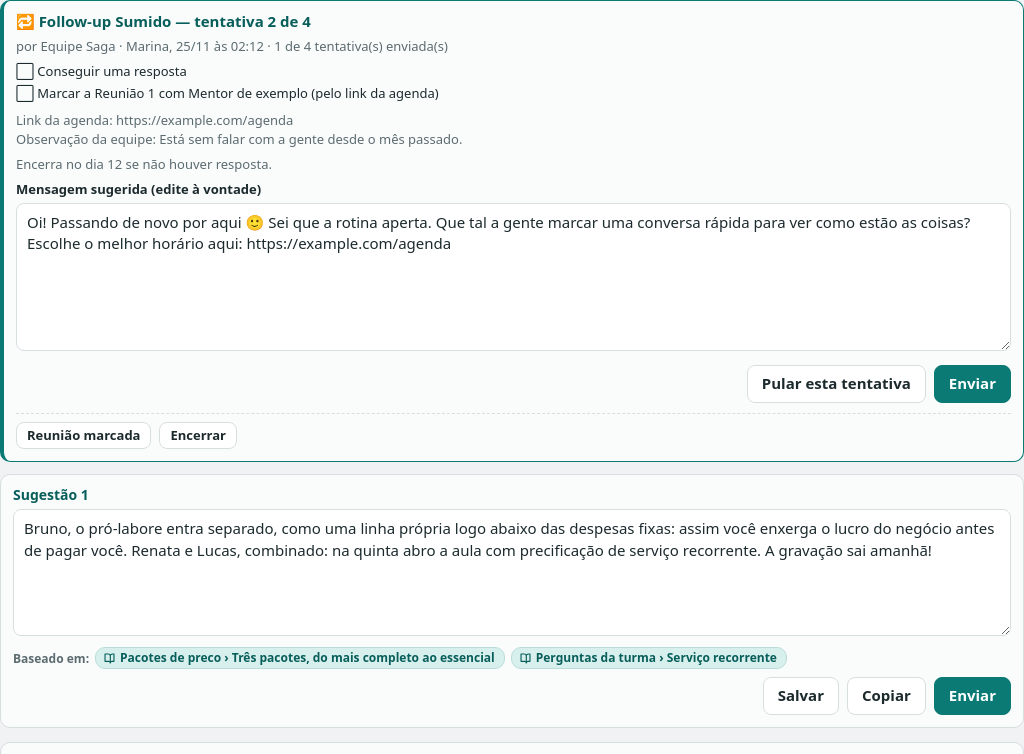
Follow-up de conversa no grupo (v0.10.0) › cartão no topo: "Follow-up Sumido — tentativa 2 de 4", objetivo, rascunho editável; "Enviar" manda o texto editado
Expected: the text "🔁 Follow-up Sumido — tentativa 2 de 4" is shown, [16,11,311,33]
Expected: the list item "⬜ Conseguir uma resposta" is shown, [16,62,187,80]
Replace the text in the text box labelled "Mensagem sugerida (edite à vontade)" with "Oi! Bora conversar?" at coordinates (514, 277), box [16,203,1011,351]
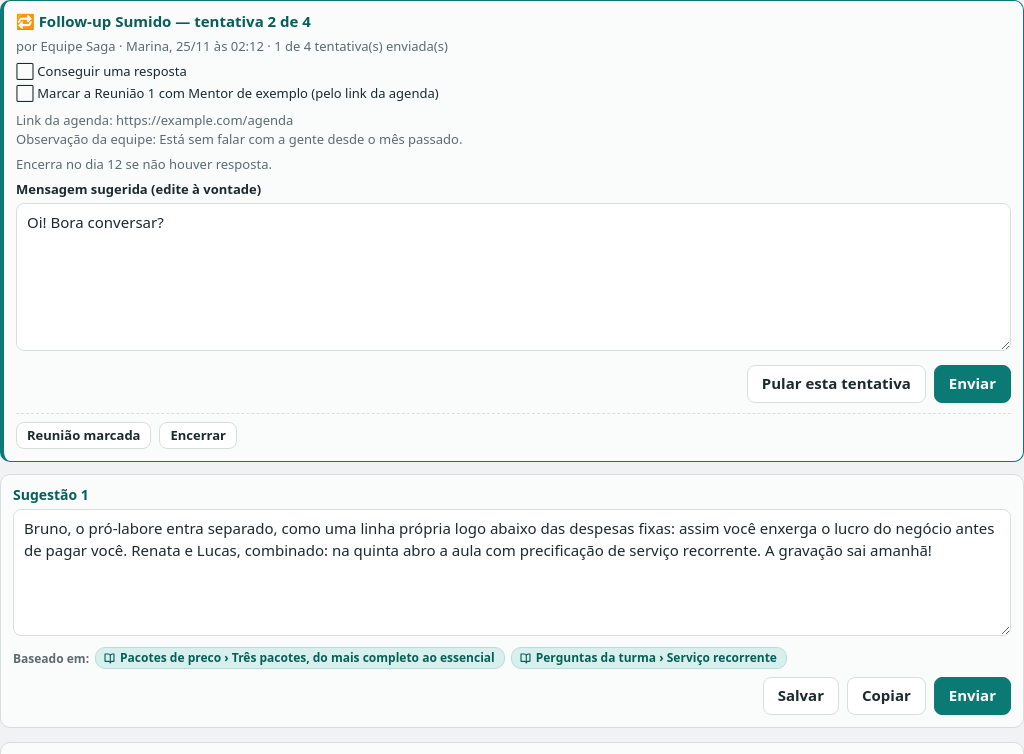
Click the 1st button "Enviar" at coordinates (972, 384), box [934,365,1011,403]
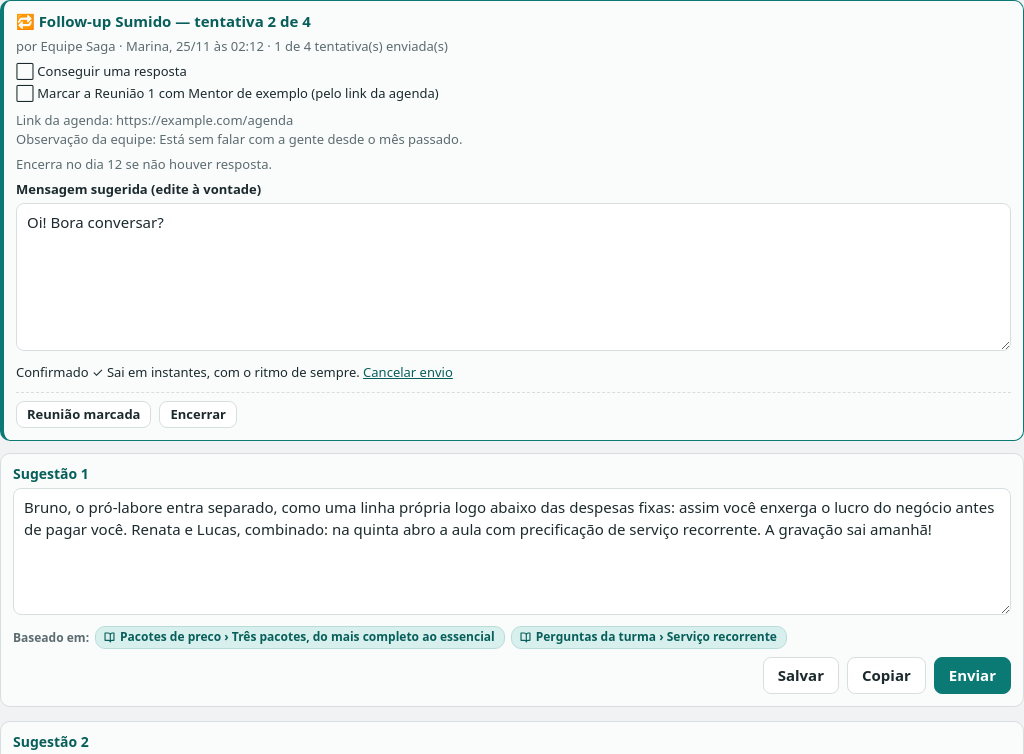
Expected: the text "Confirmado ✓ Sai em instantes, com o ritmo de sempre. Cancelar envio" is shown, [16,363,453,382]
